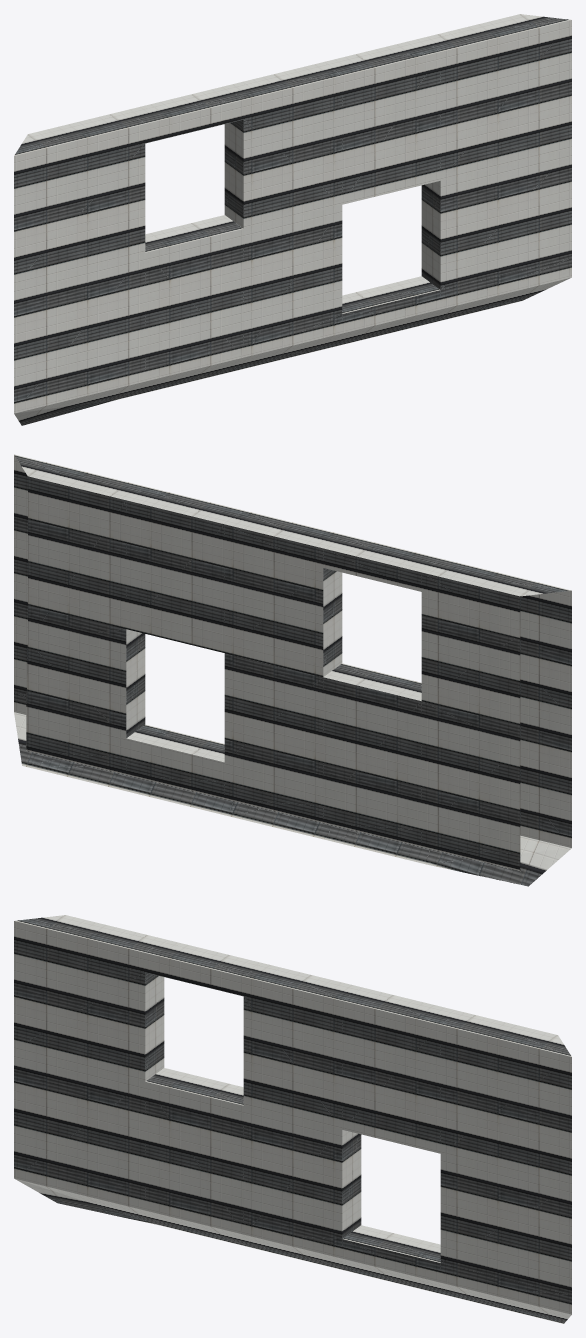
Rendered from wall3.FBX.
3 renders of one model, top to bottom at view 1: azimuth 30°, elevation 25°; view 2: azimuth 150°, elevation 25°; view 3: azimuth 330°, elevation 25°, orthographic.
Parts seen in each view (by area): view 1: Object002; view 2: Object002; view 3: Object002.
Boxes of the visible parts, bbox=[...] form: Object002: bbox=[14, 14, 571, 425]; Object002: bbox=[14, 454, 571, 886]; Object002: bbox=[14, 915, 571, 1323].
Bounding box in the file's own units: 340 × 168 × 21.93.
